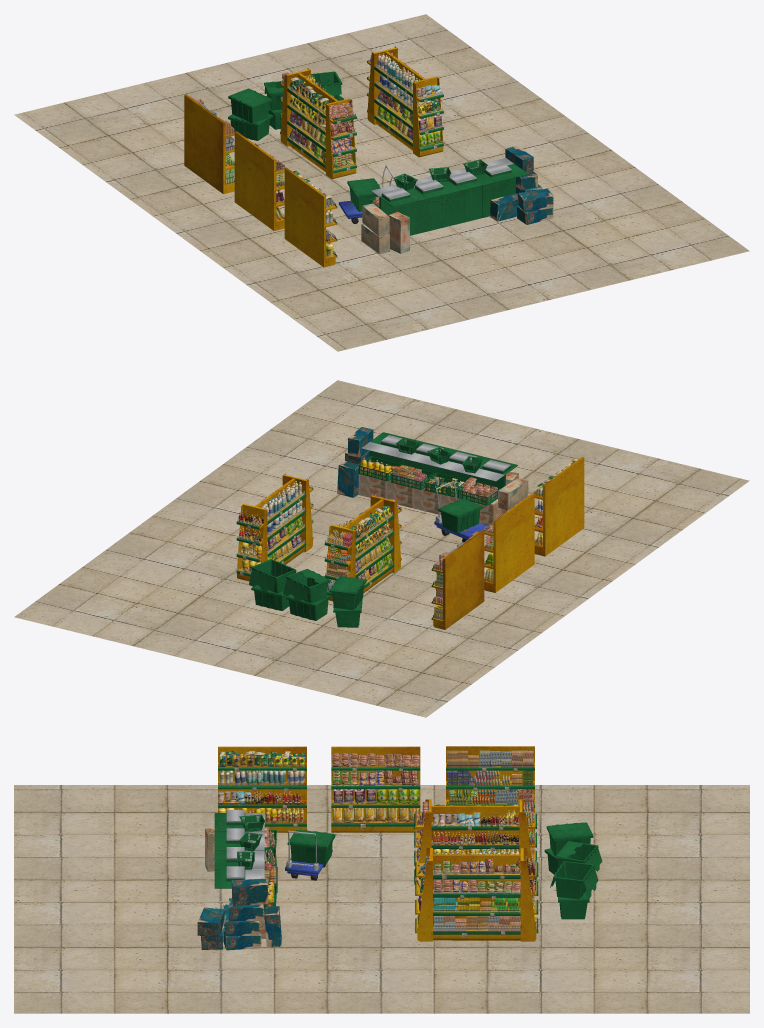
3 renders of one model, top to bottom at view 1: azimuth 30°, elevation 25°; view 2: azimuth 150°, elevation 25°; view 3: azimuth 270°, elevation 25°, orthographic. The views are drawn at different scales.
Visible parts, largest first — view 1: floor, Cube.270, uploads-files-4848112-uploads_files_2579397_Plastic_Cover.11 (×2), Cylinder.053, Plane.1075, Bodyframe.011, Bodyframe.009, Cube.111_material_0.004, Cube.111_material_0, Cube.111_material_0.003, Plane.056_material_0.001; view 2: floor, Cube.270, uploads-files-4848112-uploads_files_2579397_Plastic_Cover.11 (×2), Cylinder.053, Bodyframe.011, Plane.1075, Bodyframe.009, Plane.056_material_0.001, Plane.055_material_0.001, Cube.111_material_0, Cube.111_material_0.004; view 3: floor, uploads-files-4848112-uploads_files_2579397_Plastic_Cover.11 (×2), Cube.270, Bodyframe.009, Plane.1075, Cylinder.053, Bodyframe.011, Plane.055_material_0.001, Cube.111_material_0, Cube.111_material_0.004, Plane.056_material_0.001, Cube.049_material_0.
Boxes of the visible parts, box(x1,y1,x2,y2) form: floor: box(14, 14, 749, 351); Cube.270: box(361, 145, 553, 254); uploads-files-4848112-uploads_files_2579397_Plastic_Cover.11 (×2): box(367, 46, 443, 157); Cylinder.053: box(280, 68, 356, 178); Plane.1075: box(284, 167, 337, 267); Bodyframe.011: box(184, 94, 235, 194); Bodyframe.009: box(234, 131, 285, 230); Cube.111_material_0.004: box(228, 88, 272, 123); Cube.111_material_0: box(347, 178, 380, 211); Cube.111_material_0.003: box(228, 114, 272, 140); Plane.056_material_0.001: box(264, 81, 283, 129); floor: box(14, 380, 749, 717); Cube.270: box(337, 427, 528, 526); uploads-files-4848112-uploads_files_2579397_Plastic_Cover.11 (×2): box(236, 473, 313, 581); Cylinder.053: box(324, 493, 401, 601); Bodyframe.011: box(431, 530, 484, 629); Plane.1075: box(533, 456, 584, 556); Bodyframe.009: box(483, 493, 534, 592); Plane.056_material_0.001: box(283, 568, 330, 620); Plane.055_material_0.001: box(249, 559, 296, 610); Cube.111_material_0: box(438, 498, 482, 533); Cube.111_material_0.004: box(329, 576, 366, 610); floor: box(14, 785, 749, 1013); uploads-files-4848112-uploads_files_2579397_Plastic_Cover.11 (×2): box(415, 848, 538, 941); Cube.270: box(197, 810, 281, 950); Bodyframe.009: box(331, 746, 420, 832); Plane.1075: box(218, 746, 306, 832); Cylinder.053: box(414, 799, 537, 884); Bodyframe.011: box(446, 746, 534, 832); Plane.055_material_0.001: box(550, 861, 598, 919); Cube.111_material_0: box(287, 830, 335, 864); Cube.111_material_0.004: box(546, 822, 593, 856); Plane.056_material_0.001: box(554, 841, 602, 871); Cube.049_material_0: box(285, 830, 332, 880).
Bounding box in the file's own units: 30.37 × 5.09 × 41.32.
5 materials, 4 textured.
